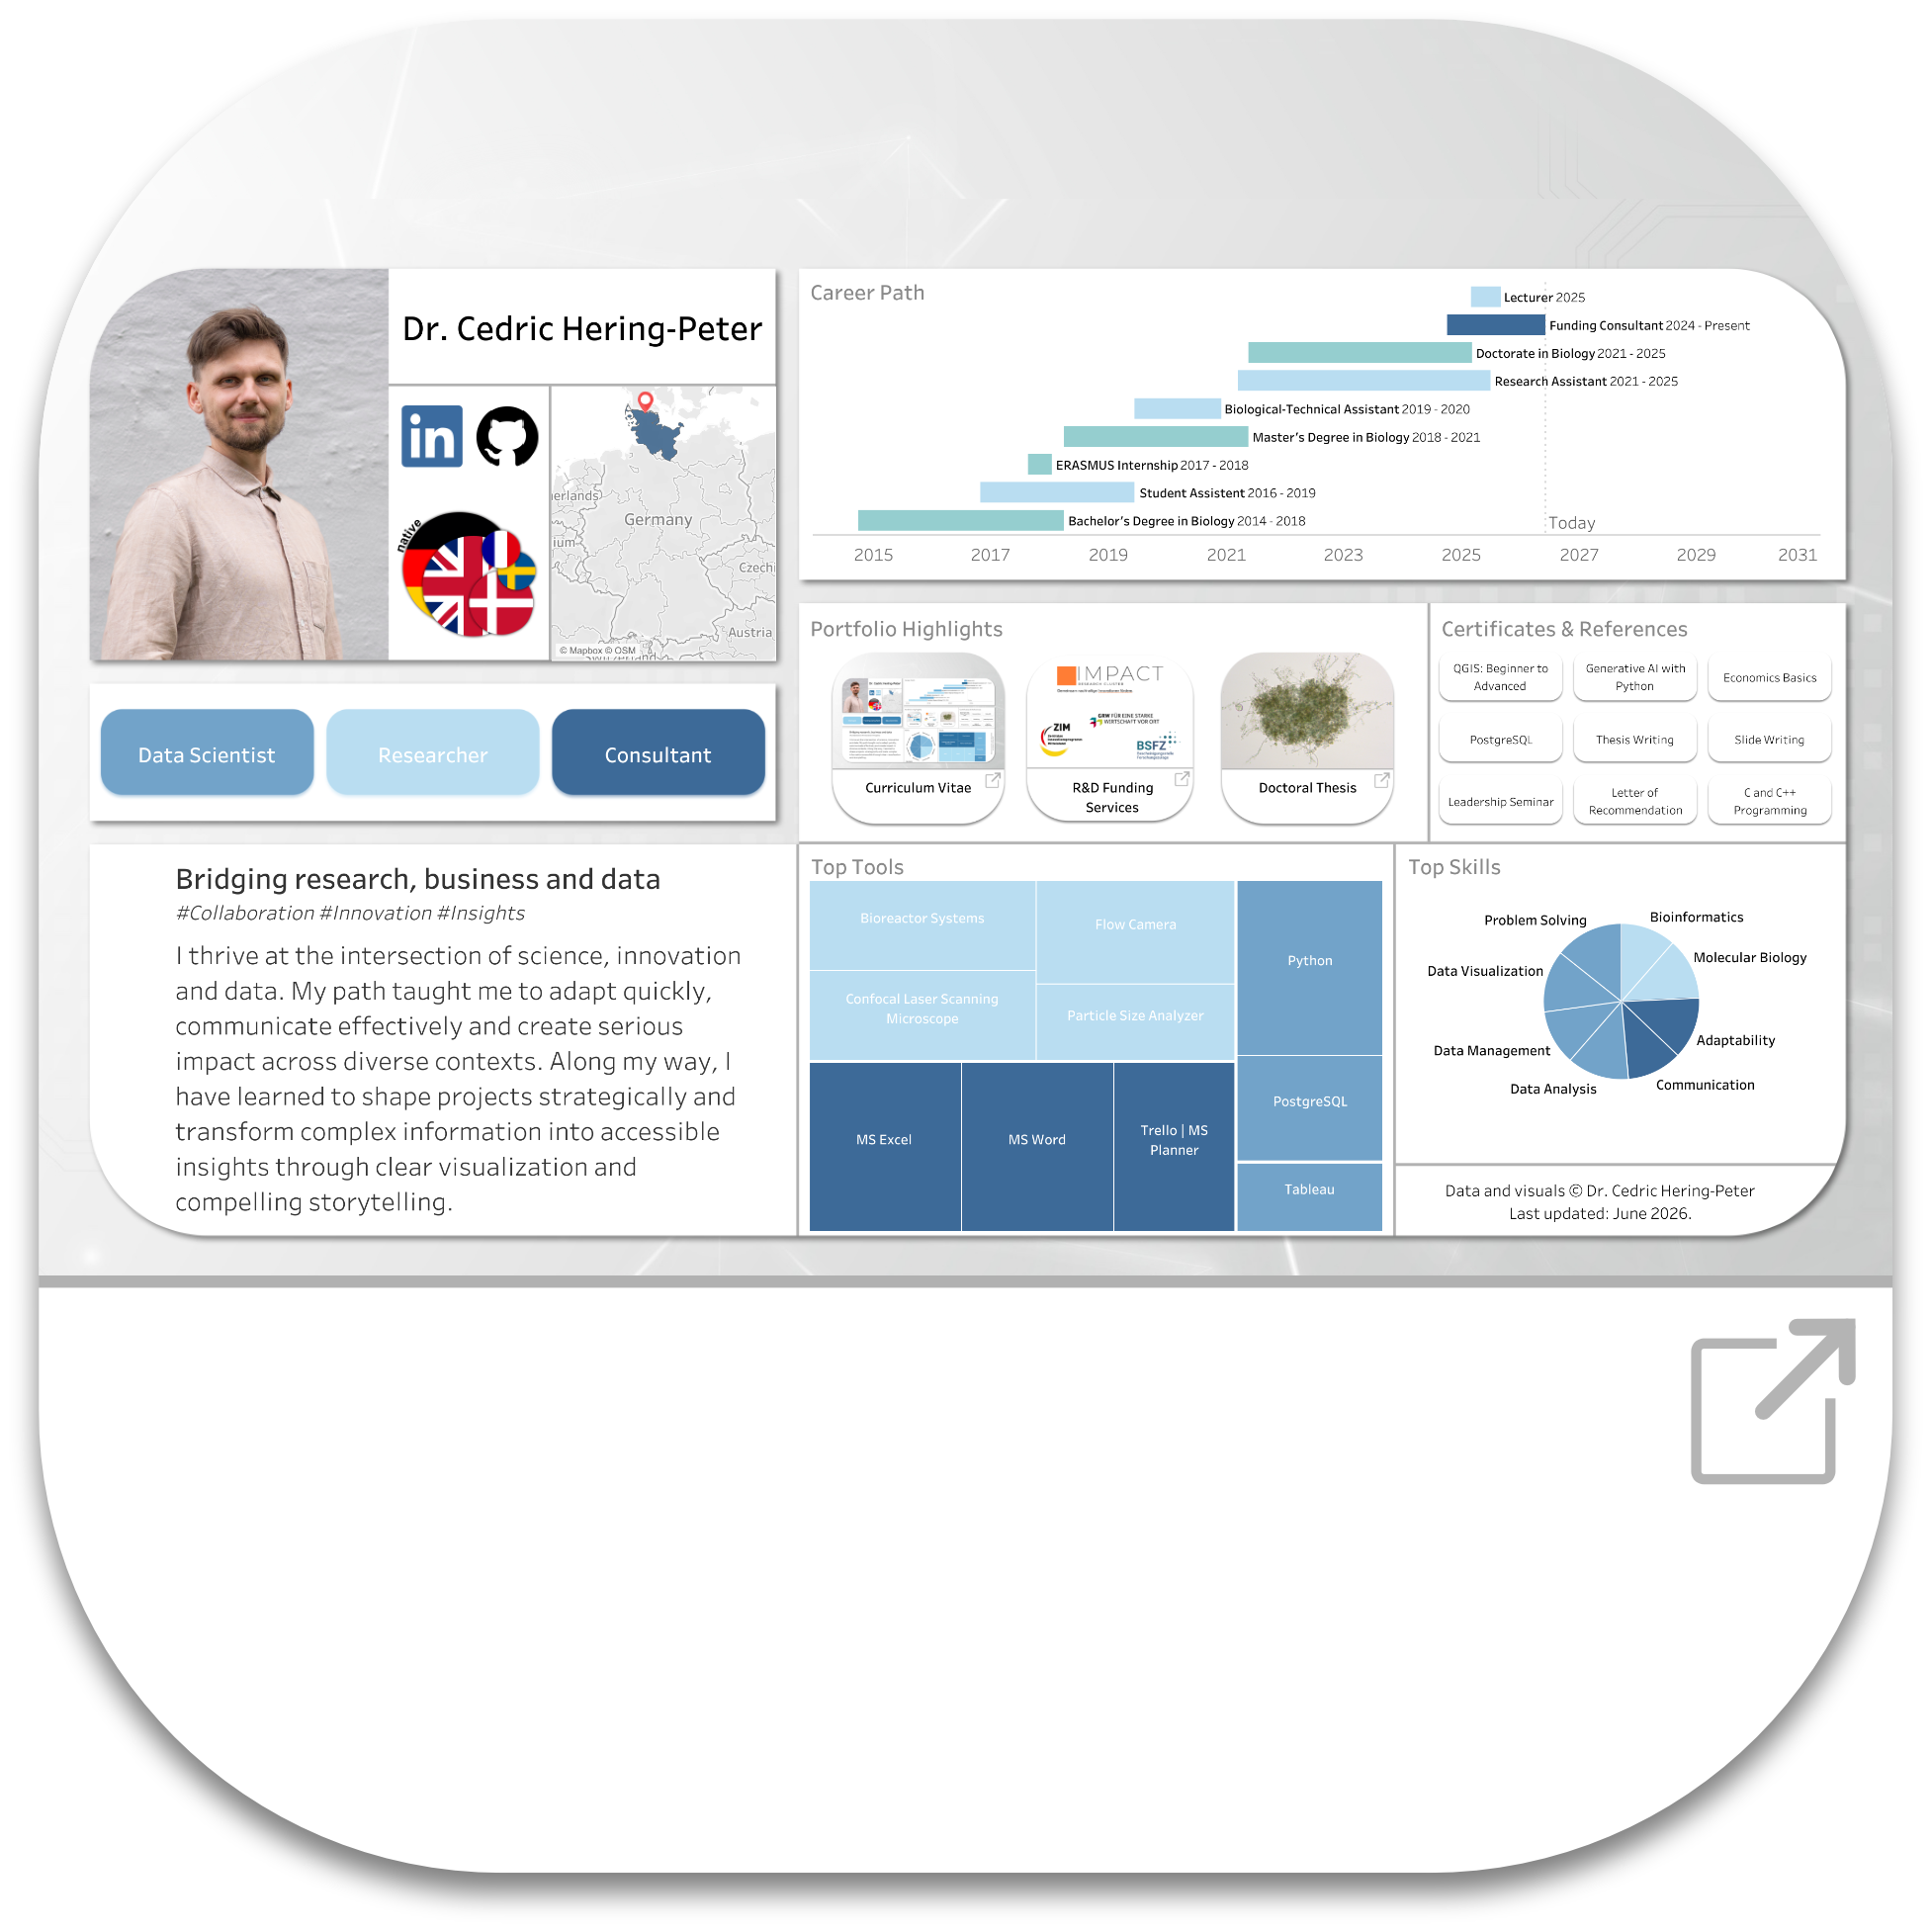

What the dashboard file says about the page in this screenshot:
{"tool":"tableau","page":{"name":"Dashboard_Visual-Resume","canvas":[1920,1080],"ordinal":0},"visuals":[{"type":"image","param":"Image/2021-06-08_rm380-15_cropped.jpg","box":[0,0,1920,1080]},{"type":"image","param":"Image/2026-06-02_Background-Panels.png","box":[50,50,1820,980]},{"type":"text","box":[401,74,373,109]},{"type":"text","box":[805,80,117,30]},{"type":"worksheet","title":"Timeline_Career-Path","mark":"Automatic","rows":["activity_title"],"cols":["start_date"],"box":[810,86,973,274]},{"type":"worksheet","title":"Map_Location","mark":"Multipolygon","box":[558,187,216,264]},{"type":"blank","box":[558,187,216,264]},{"type":"image","param":"Image/2025-12-18_Location-Pin.png","box":[636,190,25,25]},{"type":"image","param":"Image/2026-07-07_Icon_LinkedIn.png","box":[425,198,45,45]},{"type":"image","param":"Image/2026-01-09_Icon_Github.png","box":[487,198,45,45]},{"type":"image","param":"Image/2026-07-07_Icon_ORCID-iD.png","box":[425,253,45,45]},{"type":"image","param":"Image/2026-07-07_Icon_Scopus.png","box":[487,253,45,45]},{"type":"image","param":"Image/2026-04-10_Bubbles_Languages.png","box":[402,298,150,150]},{"type":"blank","box":[1581,319,208,45]},{"type":"text","box":[805,405,189,30]},{"type":"text","box":[1415,405,260,30]},{"type":"worksheet","title":"Card-Row_Portfolio-Highlights","mark":"Shape","cols":["project_title"],"box":[818,436,567,188]},{"type":"worksheet","title":"Card-Grid_Certificates","mark":"Shape","box":[1410,437,395,185]},{"type":"worksheet","title":"Buttons_Domain-Filter","mark":"Shape","cols":["domain_id"],"box":[116,482,654,119]},{"type":"blank","box":[112,628,682,380]},{"type":"worksheet","title":"Pie_Skills","mark":"Pie","box":[1375,630,433,307]},{"type":"text","box":[806,635,100,30]},{"type":"text","box":[1383,635,100,30]},{"type":"worksheet","title":"Text_Domain-Subtitle","mark":"Automatic","rows":["domain_id"],"box":[190,636,575,50]},{"type":"worksheet","title":"Treemap_Tools","mark":"Automatic","box":[802,659,564,349]},{"type":"worksheet","title":"Text_Hashtags","mark":"Automatic","rows":["domain_id"],"box":[190,672,575,46]},{"type":"worksheet","title":"Text_Domain-Description","mark":"Automatic","rows":["domain_id"],"box":[190,717,575,274]},{"type":"text","box":[1393,948,357,52]}]}

Visuals, with their boxes on the page's 1920x1080 design canvas (x1, y1, x2, y2). These are canvas units, not pixel positions in the 1932x1932 screenshot, which may show the page scaled, cropped or inside an application window:
image: region(0, 0, 1920, 1080)
image: region(50, 50, 1870, 1030)
text: region(401, 74, 774, 183)
text: region(805, 80, 922, 110)
"Timeline_Career-Path" worksheet: region(810, 86, 1783, 360)
"Map_Location" worksheet (Multipolygon marks): region(558, 187, 774, 451)
blank: region(558, 187, 774, 451)
image: region(636, 190, 661, 215)
image: region(425, 198, 470, 243)
image: region(487, 198, 532, 243)
image: region(425, 253, 470, 298)
image: region(487, 253, 532, 298)
image: region(402, 298, 552, 448)
blank: region(1581, 319, 1789, 364)
text: region(805, 405, 994, 435)
text: region(1415, 405, 1675, 435)
"Card-Row_Portfolio-Highlights" worksheet (Shape marks): region(818, 436, 1385, 624)
"Card-Grid_Certificates" worksheet (Shape marks): region(1410, 437, 1805, 622)
"Buttons_Domain-Filter" worksheet (Shape marks): region(116, 482, 770, 601)
blank: region(112, 628, 794, 1008)
"Pie_Skills" worksheet (Pie marks): region(1375, 630, 1808, 937)
text: region(806, 635, 906, 665)
text: region(1383, 635, 1483, 665)
"Text_Domain-Subtitle" worksheet: region(190, 636, 765, 686)
"Treemap_Tools" worksheet: region(802, 659, 1366, 1008)
"Text_Hashtags" worksheet: region(190, 672, 765, 718)
"Text_Domain-Description" worksheet: region(190, 717, 765, 991)
text: region(1393, 948, 1750, 1000)
